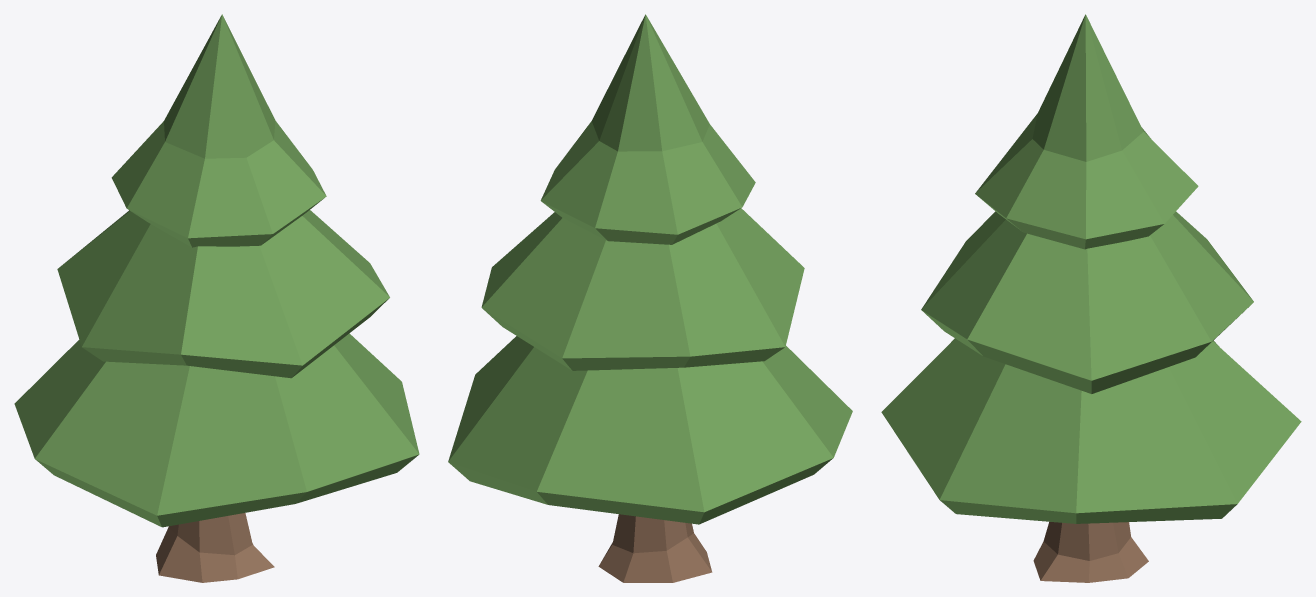
The model's file is SmallPinetree.fbx.
3 renders of one model, left to right at view 1: azimuth 30°, elevation 25°; view 2: azimuth 150°, elevation 25°; view 3: azimuth 270°, elevation 25°, orthographic.
Parts seen in each view (by area): view 1: Tree_Spruce_tiny_02; view 2: Tree_Spruce_tiny_02; view 3: Tree_Spruce_tiny_02.
Part boxes in pixels (left/top/right/bottom): Tree_Spruce_tiny_02: left=14, top=14, right=419, bottom=582; Tree_Spruce_tiny_02: left=448, top=14, right=852, bottom=582; Tree_Spruce_tiny_02: left=881, top=14, right=1301, bottom=582.
Bounding box in the file's own units: 767 × 1098 × 758.
